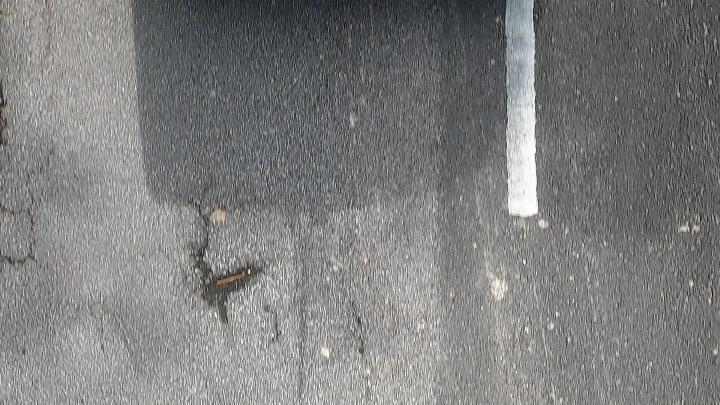Crack: (174, 194, 267, 324), (185, 204, 263, 324), (0, 142, 69, 272), (0, 149, 56, 265)
Lane: (498, 0, 547, 221), (506, 0, 537, 216)
